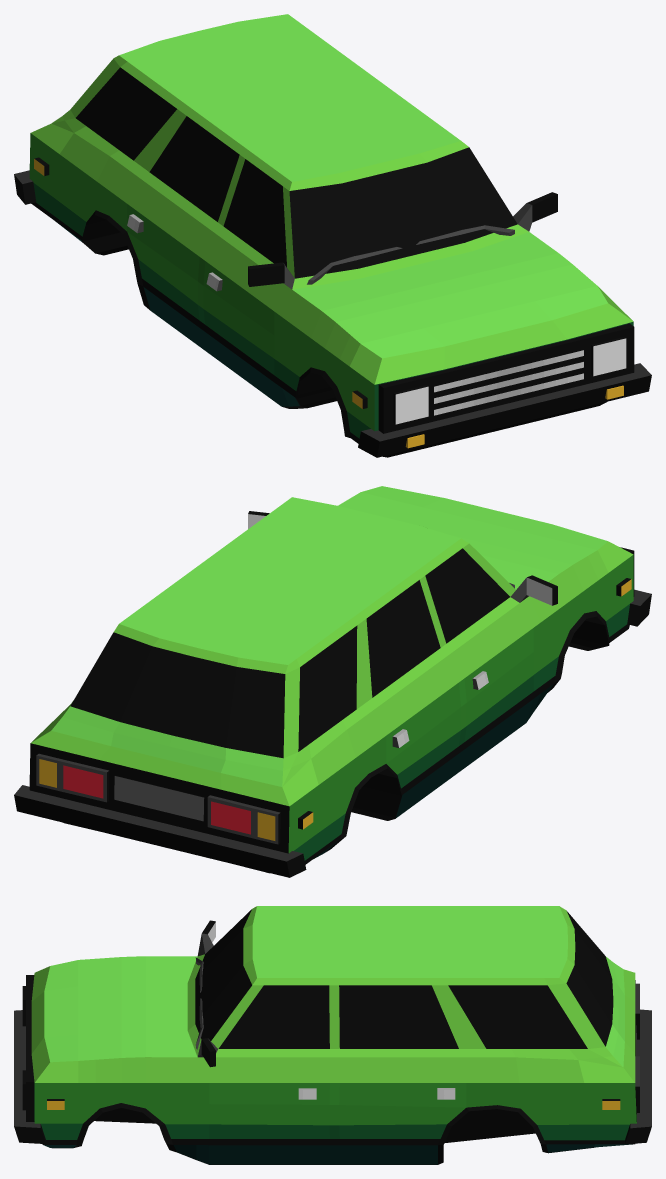
File: StationWagon.003.fbx
The picture shows the model from 3 angles, top to bottom: view 1: azimuth 30°, elevation 25°; view 2: azimuth 150°, elevation 25°; view 3: azimuth 270°, elevation 25°; orthographic projection. The views are drawn at different scales.
Visible parts, largest first — view 1: StationWagon.003; view 2: StationWagon.003; view 3: StationWagon.003.
Boxes of the visible parts, x1,y1,x2,y2 form: StationWagon.003: [14, 14, 651, 457]; StationWagon.003: [14, 486, 651, 877]; StationWagon.003: [14, 906, 651, 1164].
Bounding box in the file's own units: 1.84 × 1.14 × 3.78.
